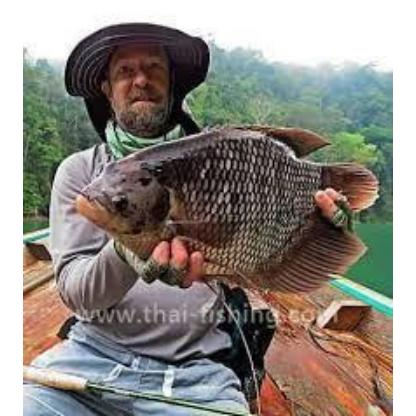gurame: (74, 127, 372, 301)
